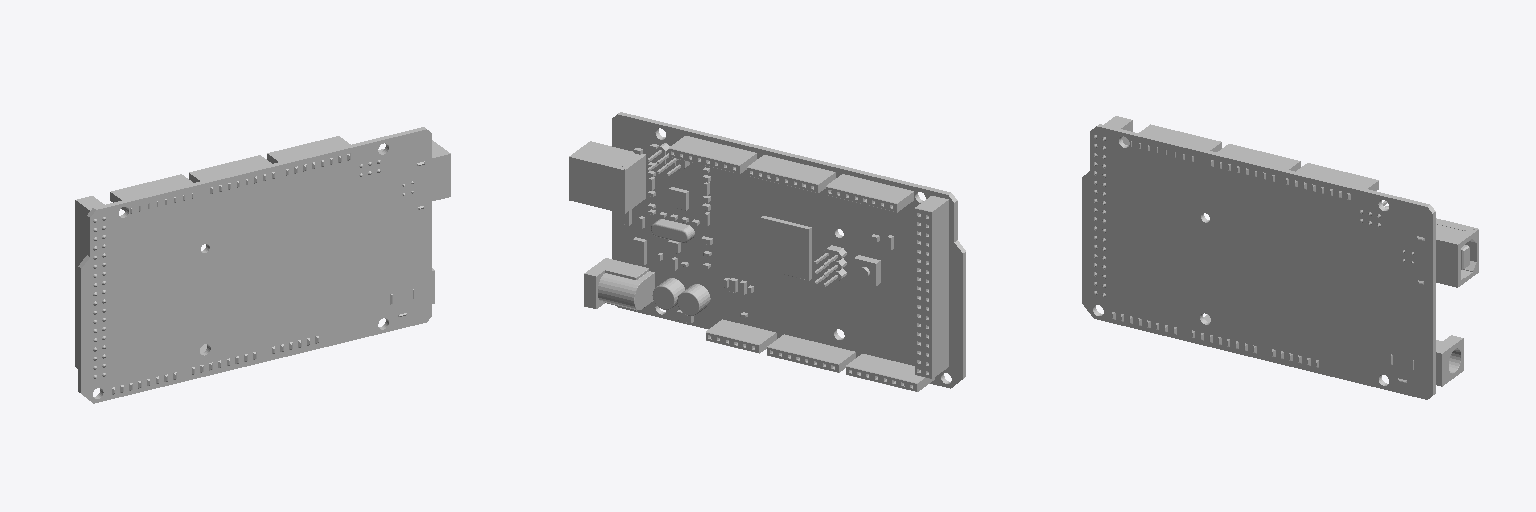
File: ArduinoMega.obj
The picture shows the model from 3 angles: view 1: azimuth 30°, elevation 25°; view 2: azimuth 150°, elevation 25°; view 3: azimuth 330°, elevation 25°; orthographic projection.
Parts seen in each view (by area): view 1: Part__Feature; view 2: Part__Feature; view 3: Part__Feature.
Part boxes in pixels (x1,y1,x2,y2): Part__Feature: (75,127,450,403); Part__Feature: (569,112,965,391); Part__Feature: (1082,116,1478,399).
Bounding box in the file's own units: 108 × 53.42 × 12.95.